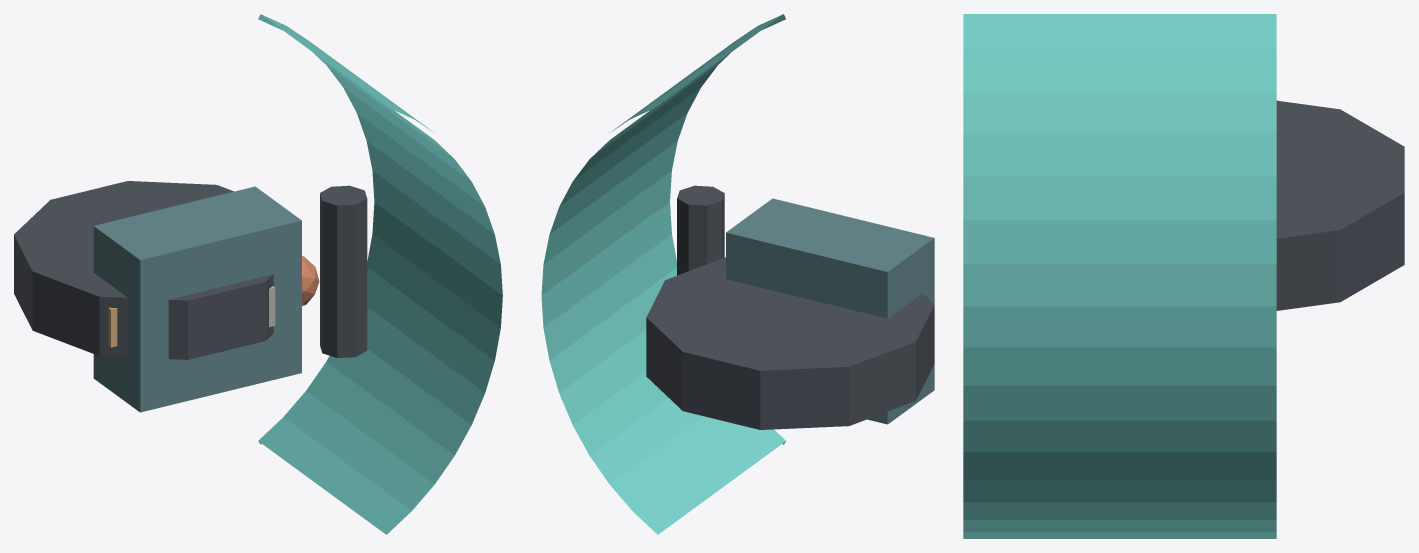
Rendered from shield_turret.glb.
3 renders of one model, left to right at view 1: azimuth 30°, elevation 25°; view 2: azimuth 150°, elevation 25°; view 3: azimuth 270°, elevation 25°, orthographic. The views are drawn at different scales.
Visible parts, largest first — view 1: shield_arc, turret_head, base, cannon, optic; view 2: shield_arc, base, turret_head, cannon; view 3: shield_arc, base.
Part boxes in pixels (left/top/right/bottom): shield_arc: left=258, top=14, right=502, bottom=534; turret_head: left=93, top=186, right=301, bottom=412; base: left=14, top=181, right=273, bottom=359; cannon: left=320, top=185, right=367, bottom=357; optic: left=302, top=256, right=319, bottom=305; shield_arc: left=541, top=14, right=785, bottom=534; base: left=646, top=257, right=934, bottom=429; turret_head: left=726, top=198, right=934, bottom=424; cannon: left=677, top=185, right=724, bottom=275; shield_arc: left=963, top=14, right=1276, bottom=538; base: left=1276, top=100, right=1404, bottom=310.
Bounding box in the file's own units: 1.79 × 2.04 × 1.55.
